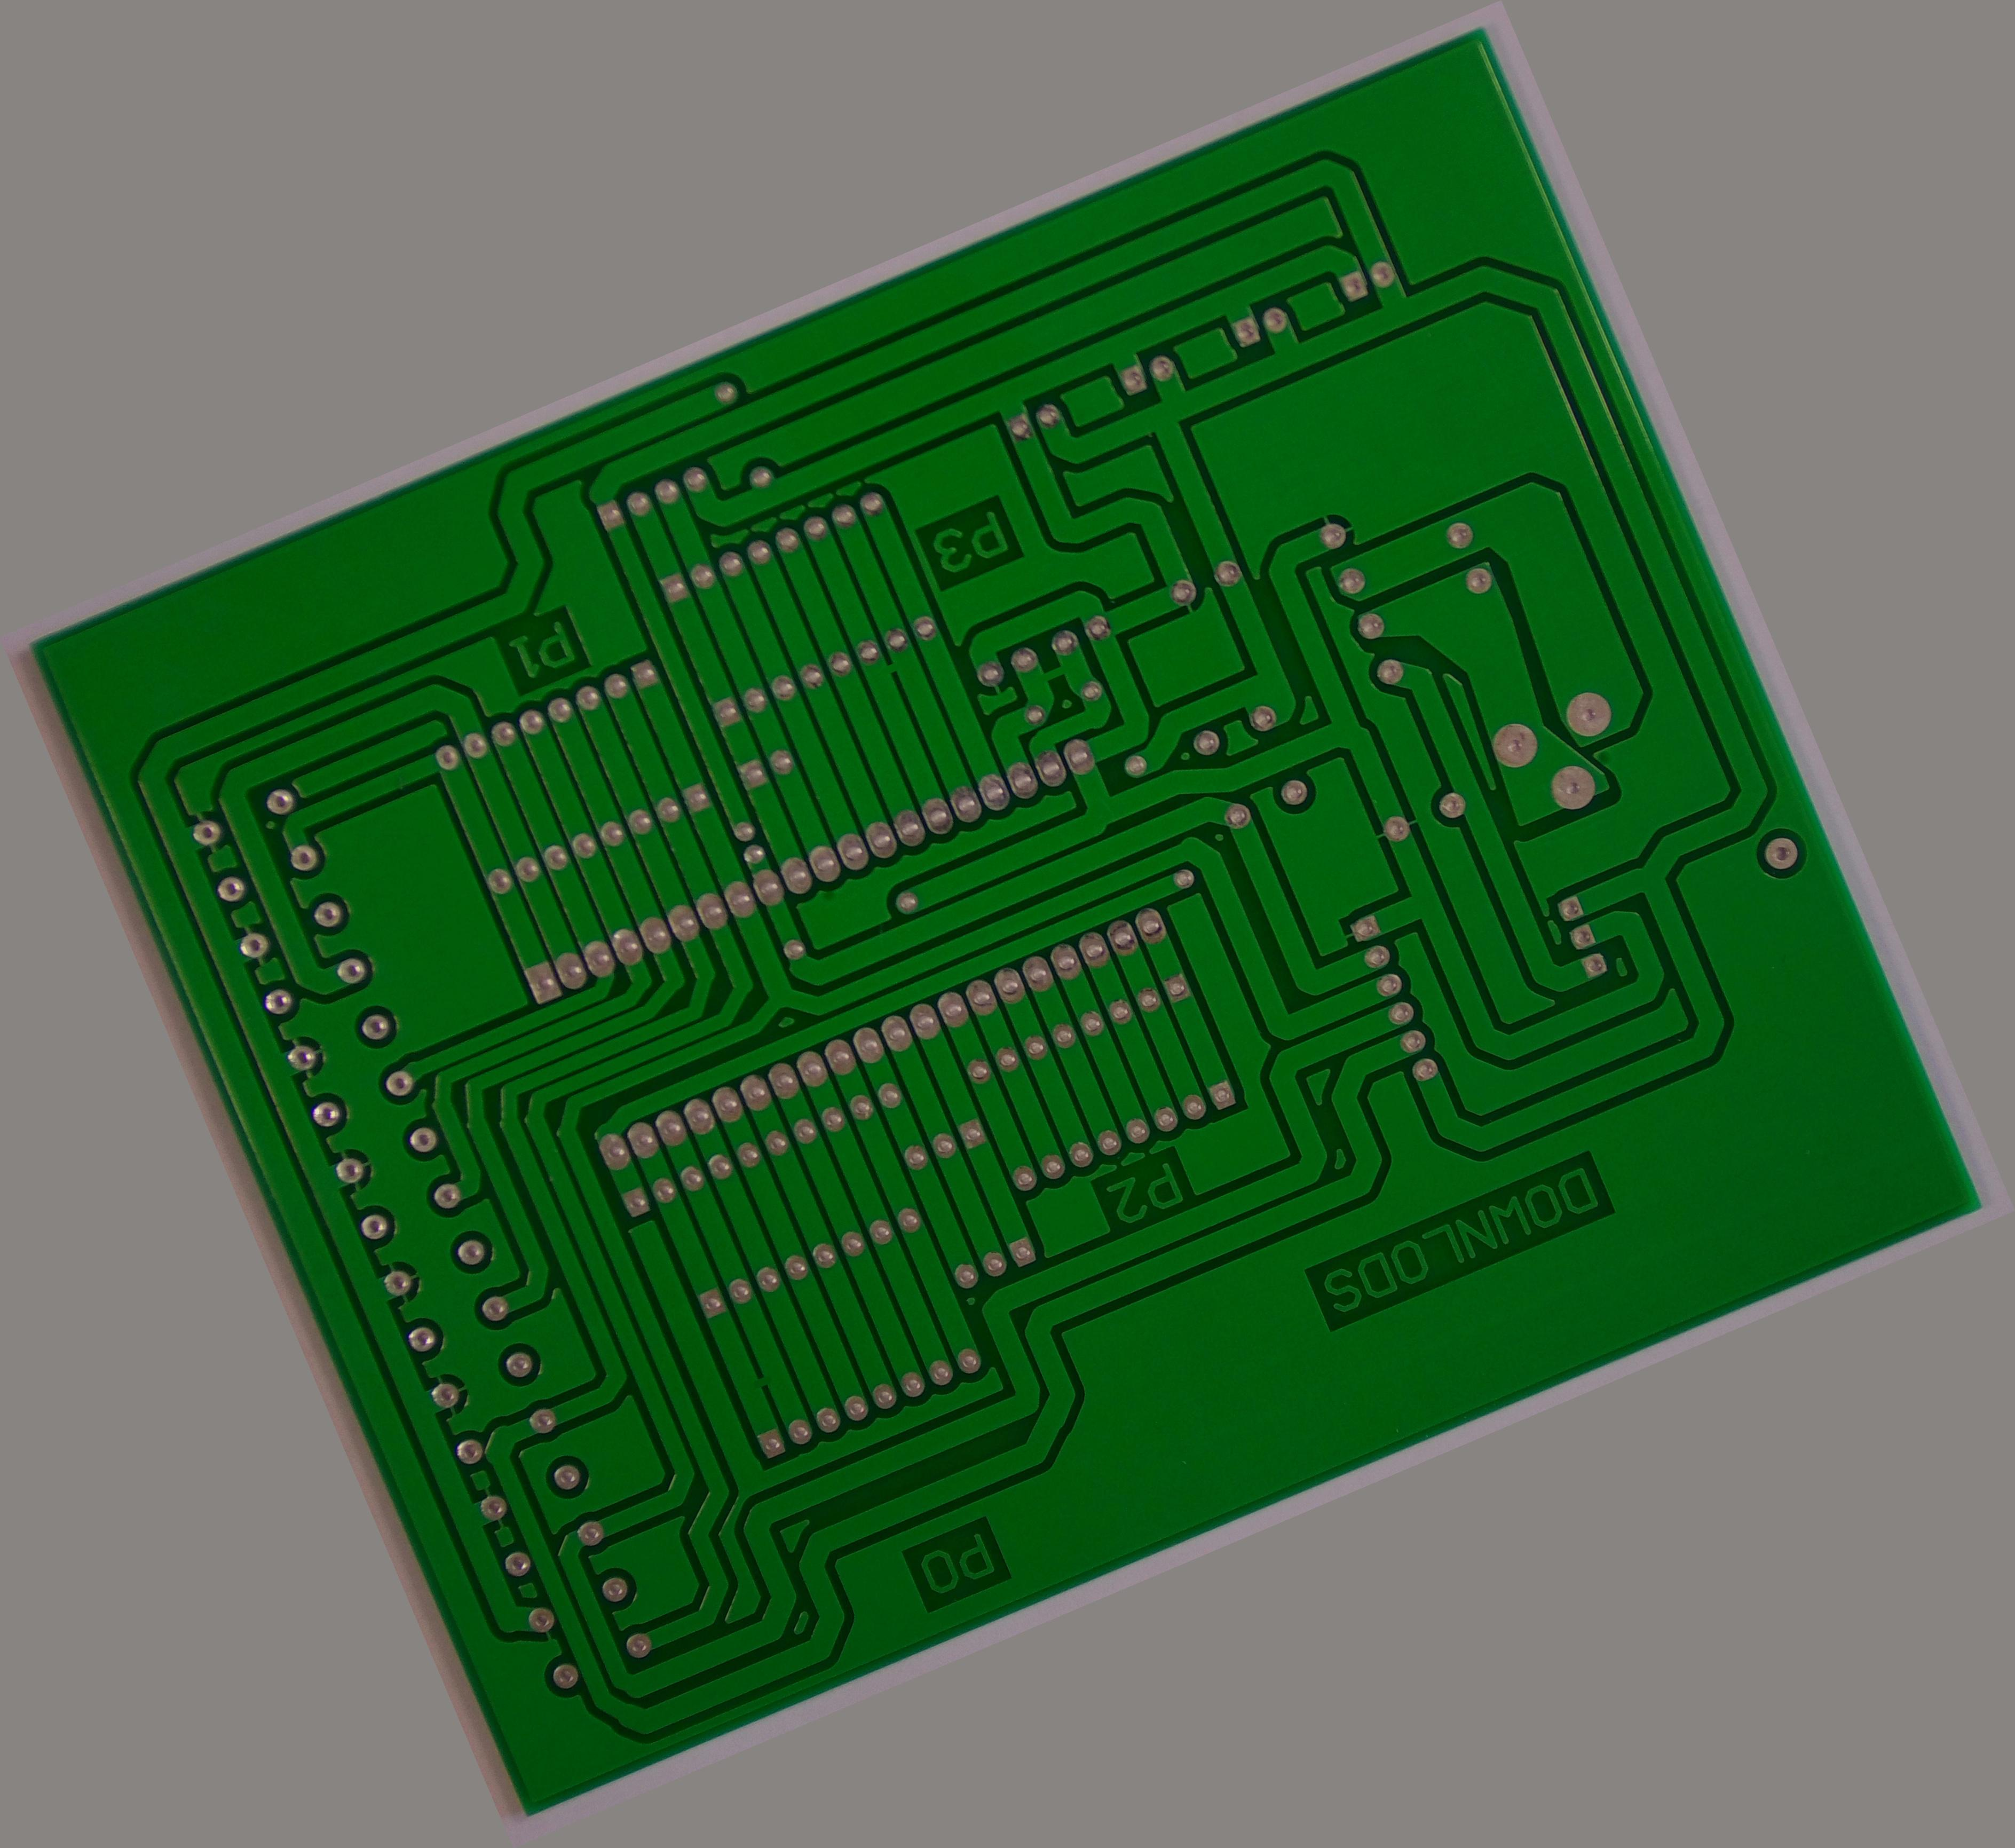short: (1020, 630, 1088, 704), (734, 1351, 799, 1416), (867, 635, 920, 690)
